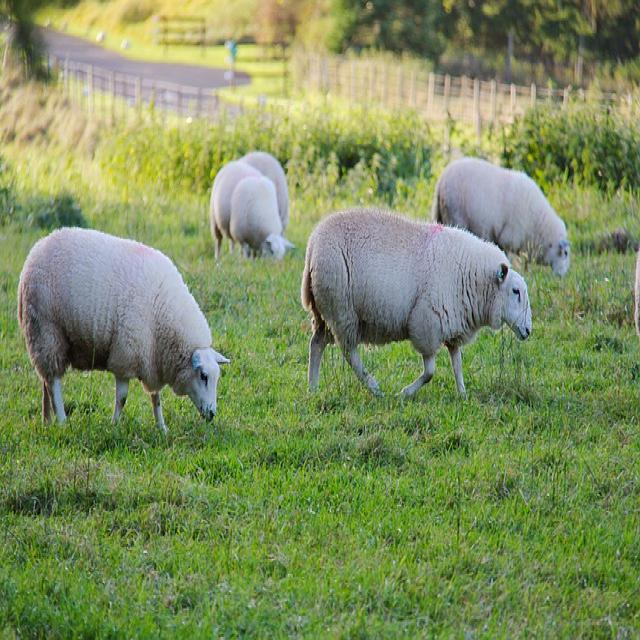goat: (301, 208, 531, 399), (18, 227, 228, 429), (432, 158, 570, 275), (210, 152, 294, 260)
